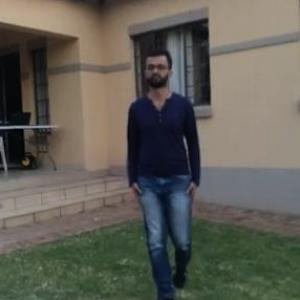follow: (123, 40, 201, 277)
